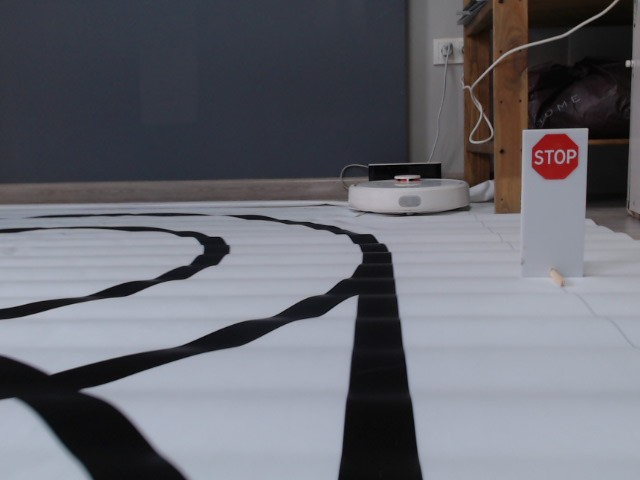Stop: (530, 133, 580, 181)
